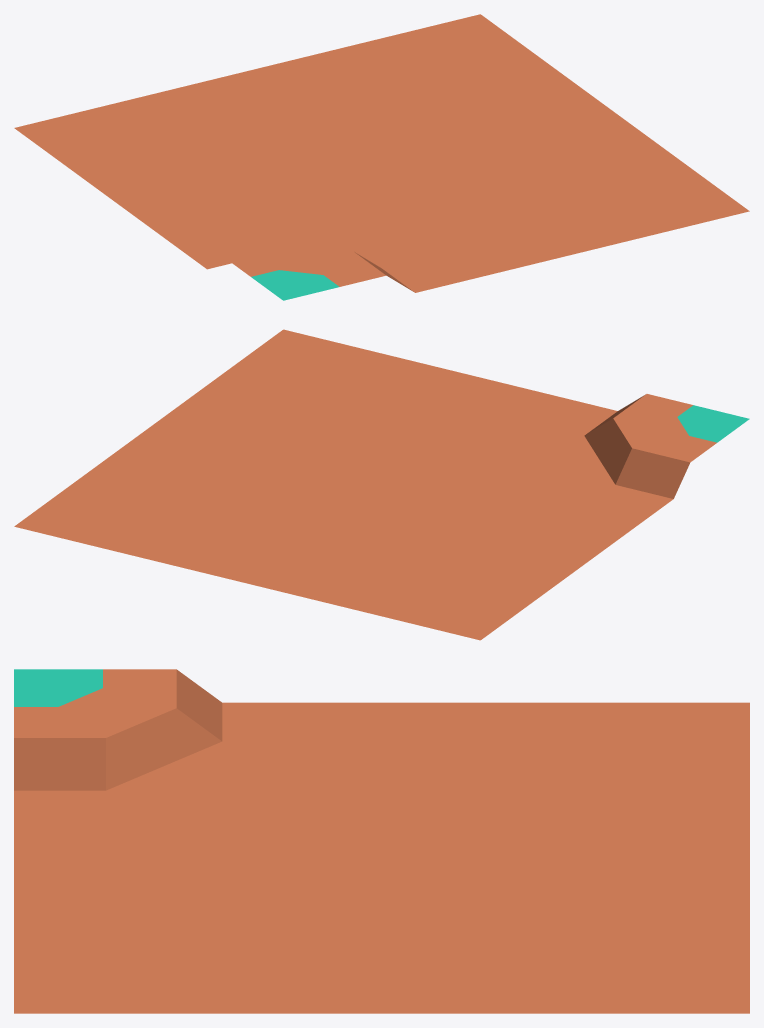
Rendered from ground_pathCornerSmall.glb.
3 views of the same model, one above another, from view 1: azimuth 30°, elevation 25°; view 2: azimuth 150°, elevation 25°; view 3: azimuth 270°, elevation 25° (orthographic). The views are drawn at different scales.
Visible parts, largest first — view 1: ground_pathCornerSmall; view 2: ground_pathCornerSmall; view 3: ground_pathCornerSmall.
Part boxes in pixels (left/top/right/bottom): ground_pathCornerSmall: left=14, top=14, right=749, bottom=300; ground_pathCornerSmall: left=14, top=329, right=749, bottom=640; ground_pathCornerSmall: left=14, top=669, right=749, bottom=1013.
Size of the model in its own units: 1 by 0.05 by 1.
